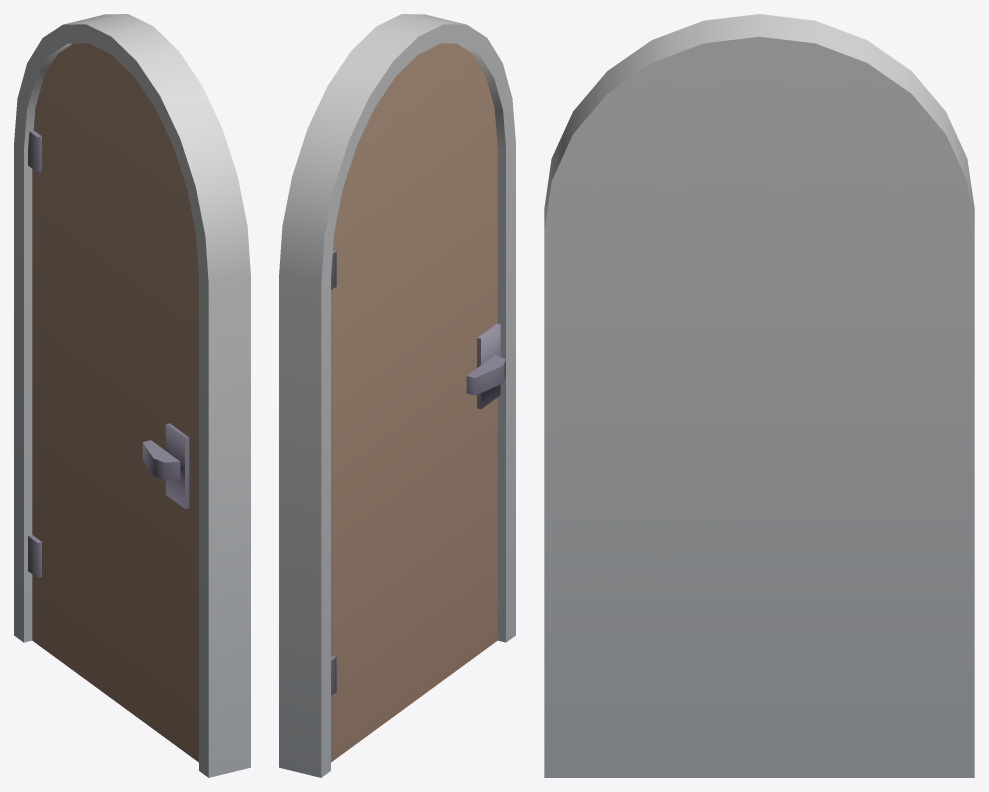
The model's file is door-rounded-basic (%wall).glb.
3 renders of one model, left to right at view 1: azimuth 30°, elevation 25°; view 2: azimuth 150°, elevation 25°; view 3: azimuth 270°, elevation 25°, orthographic. The views are drawn at different scales.
Visible parts, largest first — view 1: door-rounded-basic (%wall); view 2: door-rounded-basic (%wall); view 3: door-rounded-basic (%wall).
Part boxes in pixels (x1=…): door-rounded-basic (%wall): x1=14, y1=14, x2=250, y2=777; door-rounded-basic (%wall): x1=279, y1=14, x2=515, y2=777; door-rounded-basic (%wall): x1=544, y1=14, x2=974, y2=777.
Bounding box in the file's own units: 0.1875 × 1.9 × 1.
